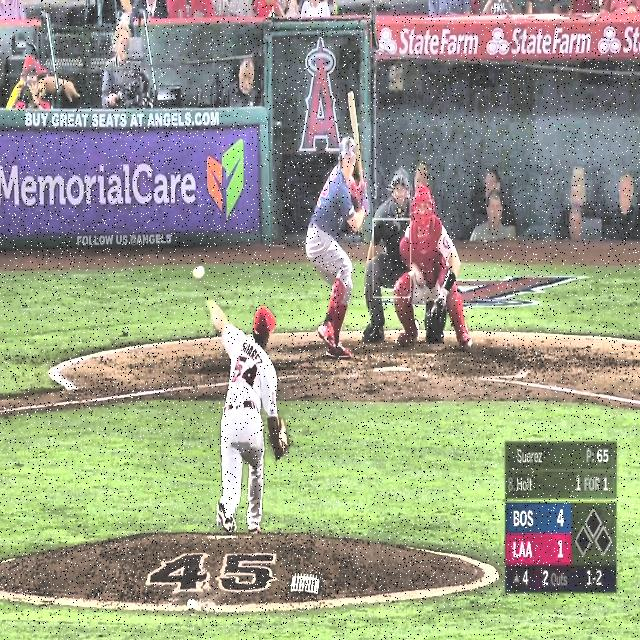baseball: (193, 265, 205, 281)
